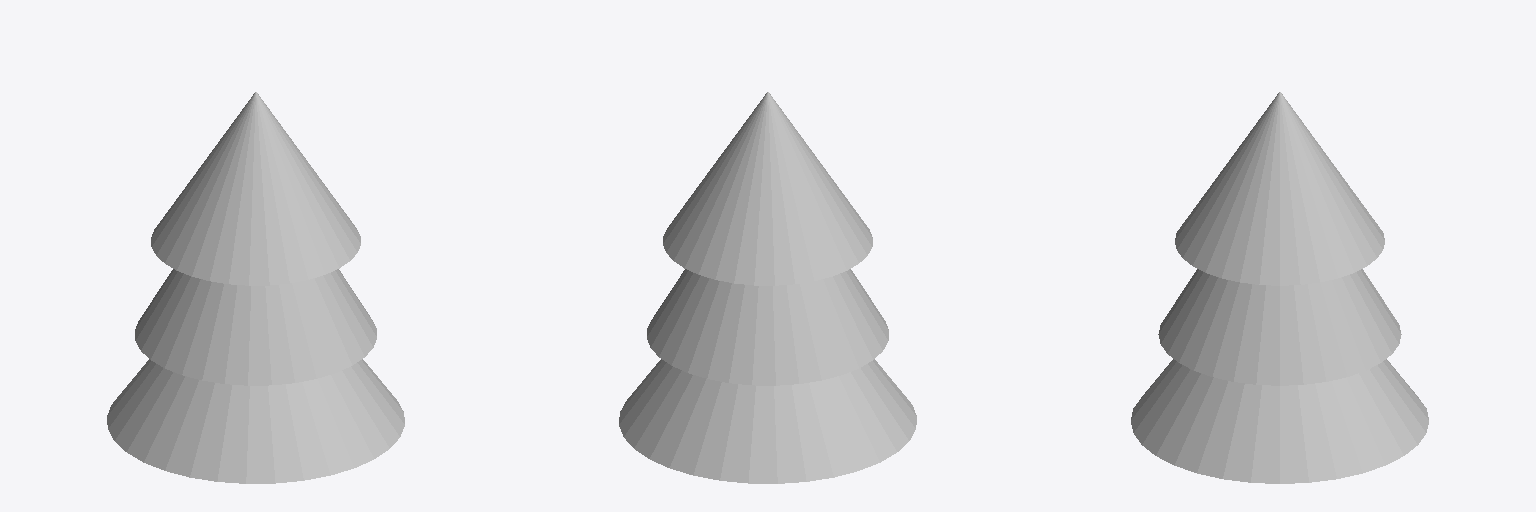
Rendered from TreeTop.obj.
3 views of the same model, side by side, from view 1: azimuth 30°, elevation 25°; view 2: azimuth 150°, elevation 25°; view 3: azimuth 270°, elevation 25° (orthographic).
Visible parts, largest first — view 1: Cone, Cone.002, Cone.001; view 2: Cone, Cone.002, Cone.001; view 3: Cone, Cone.002, Cone.001.
Boxes of the visible parts, x1=… form: Cone: x1=107, y1=359, x2=404, y2=483; Cone.002: x1=151, y1=92, x2=360, y2=285; Cone.001: x1=135, y1=269, x2=376, y2=385; Cone: x1=619, y1=359, x2=916, y2=483; Cone.002: x1=663, y1=92, x2=872, y2=285; Cone.001: x1=647, y1=269, x2=888, y2=385; Cone: x1=1131, y1=359, x2=1428, y2=483; Cone.002: x1=1175, y1=92, x2=1384, y2=285; Cone.001: x1=1158, y1=269, x2=1401, y2=385.
Size of the model in its own units: 2.84 by 3.45 by 2.84.